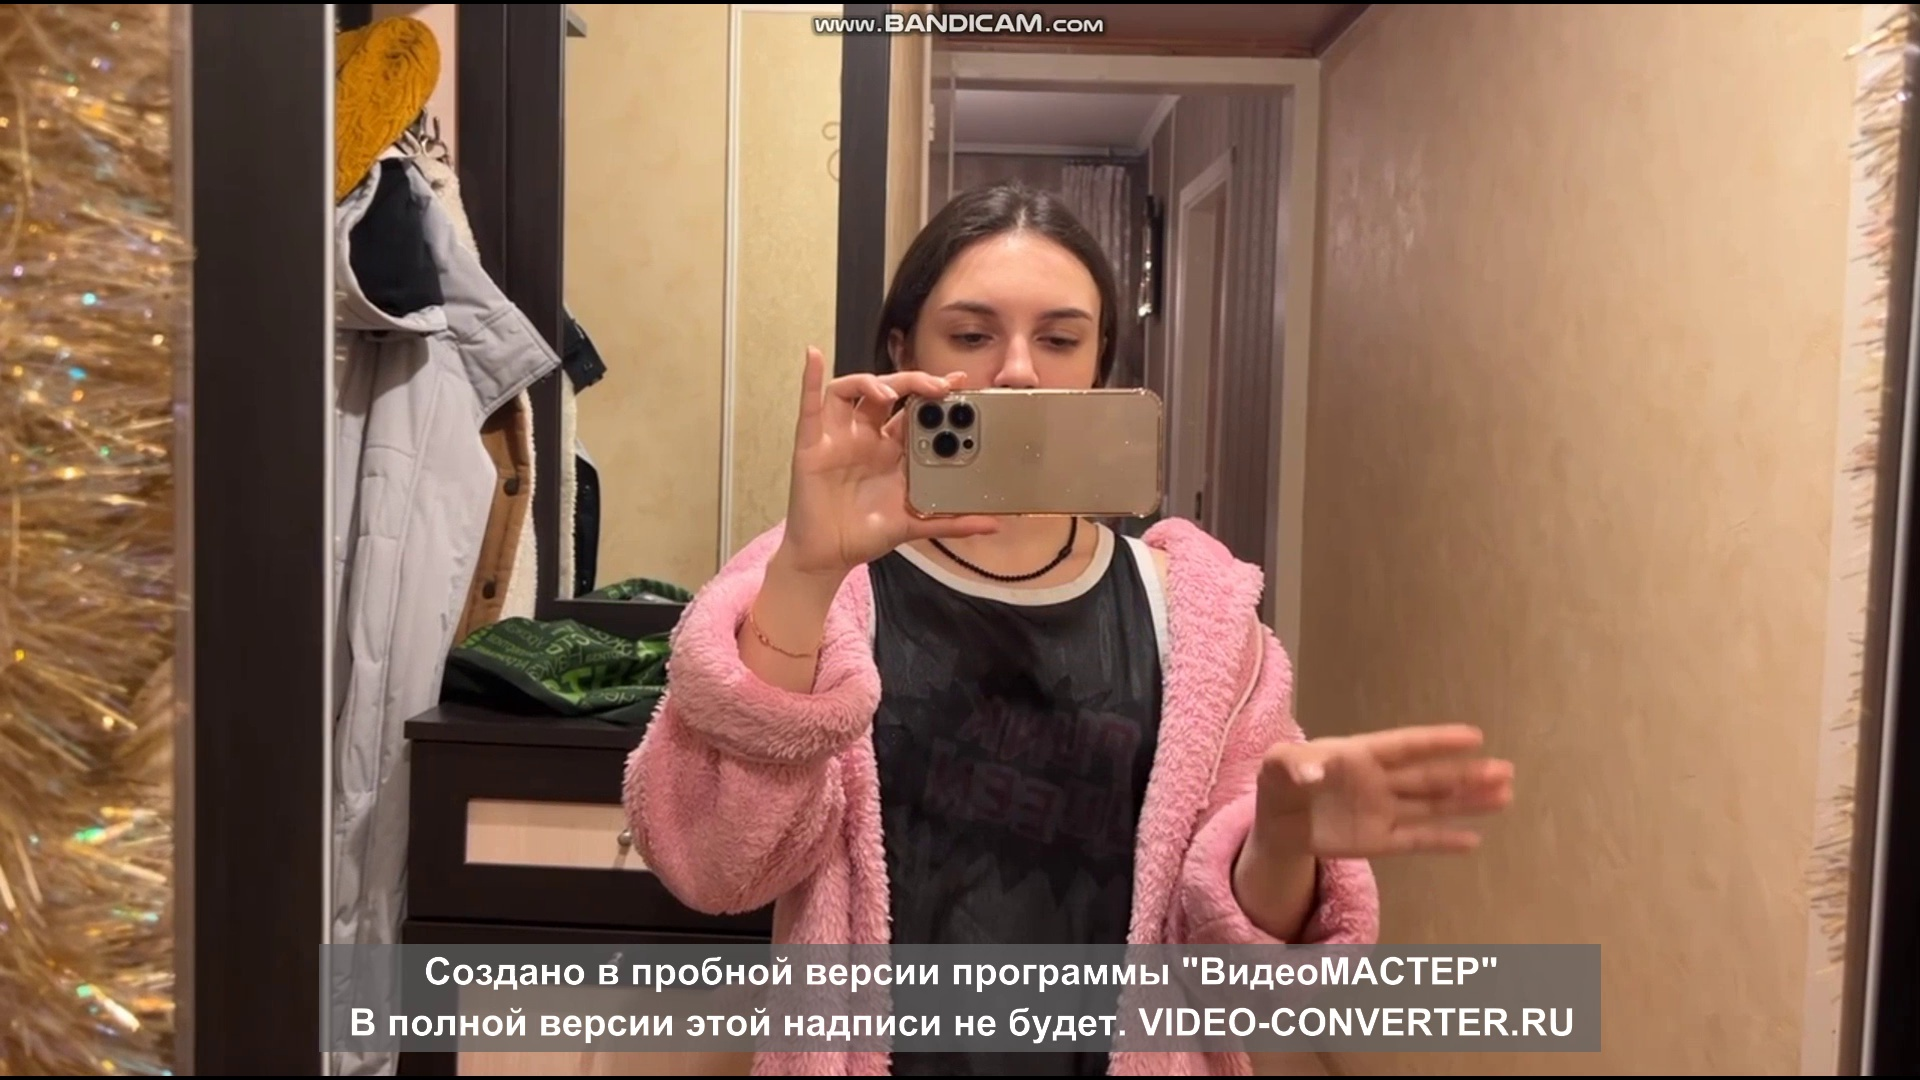Ладонь: (1259, 724, 1515, 862)
